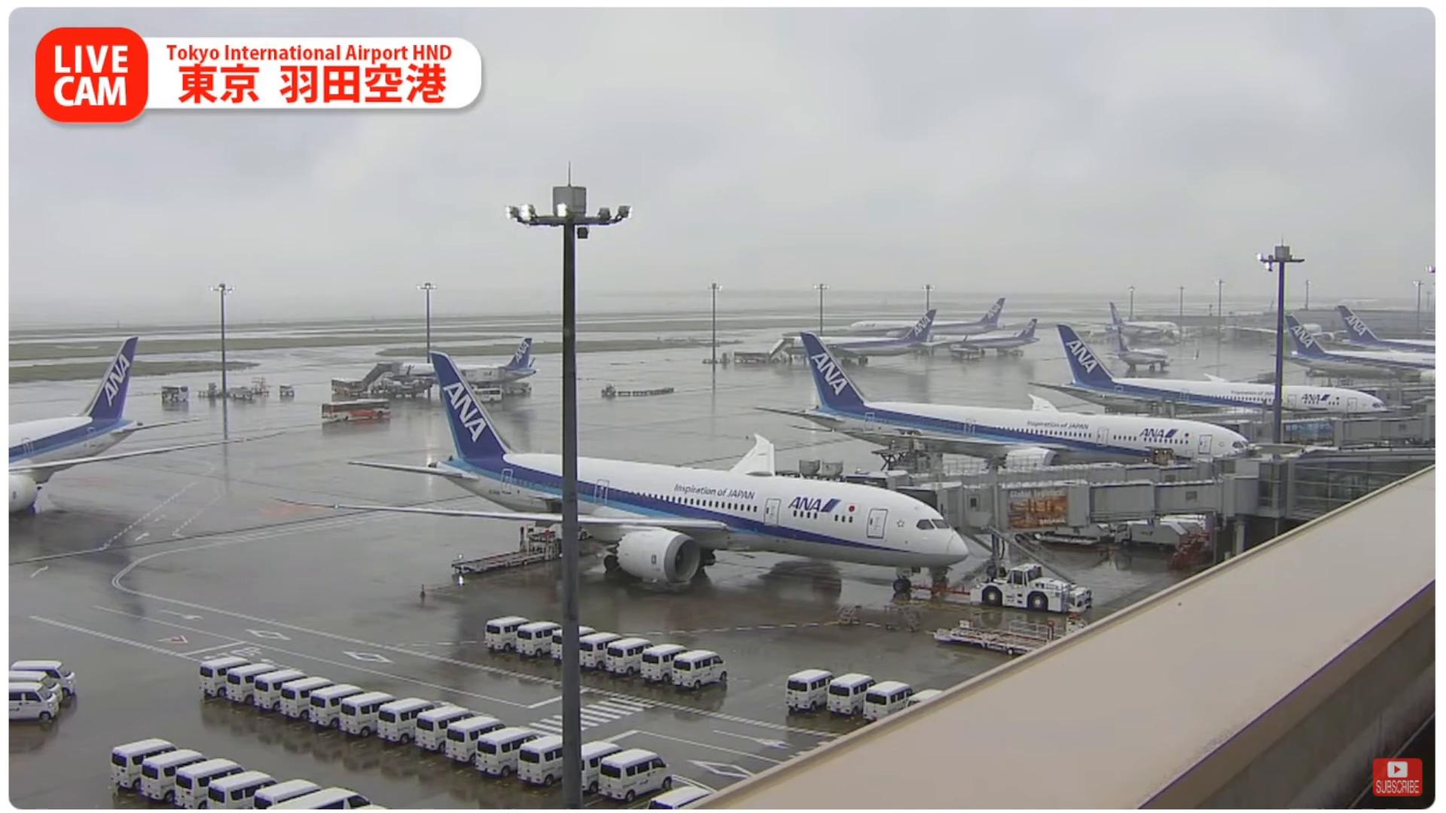APS: (969, 561, 1094, 613)
Aerobridge: (894, 449, 1258, 584), (845, 448, 1212, 486)
Airplane: (333, 353, 970, 591)
JCPL: (933, 614, 1090, 658), (452, 521, 562, 576)
Window: (1294, 452, 1436, 515)
